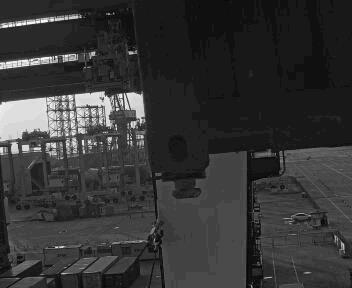twist_lock_1: (188, 136, 216, 169)
